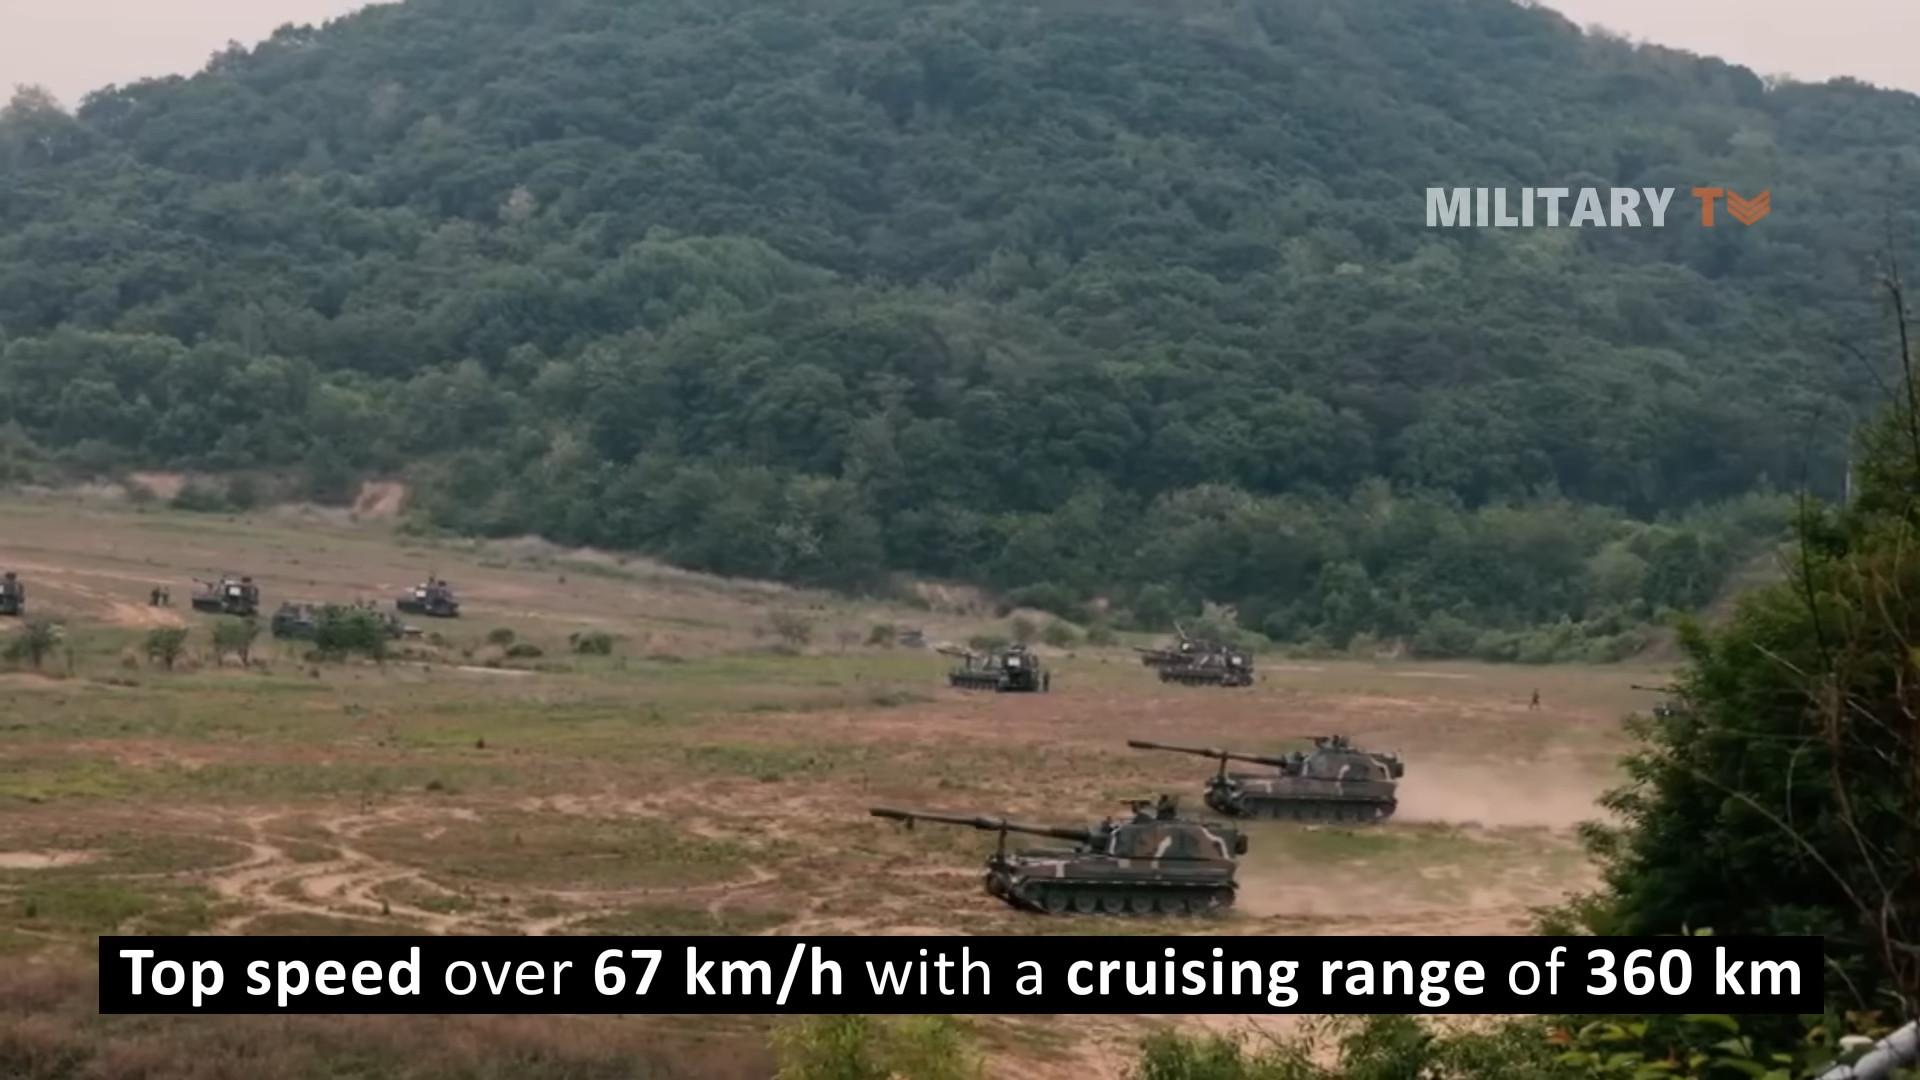tank: (868, 803, 1241, 915), (1125, 738, 1406, 828)
